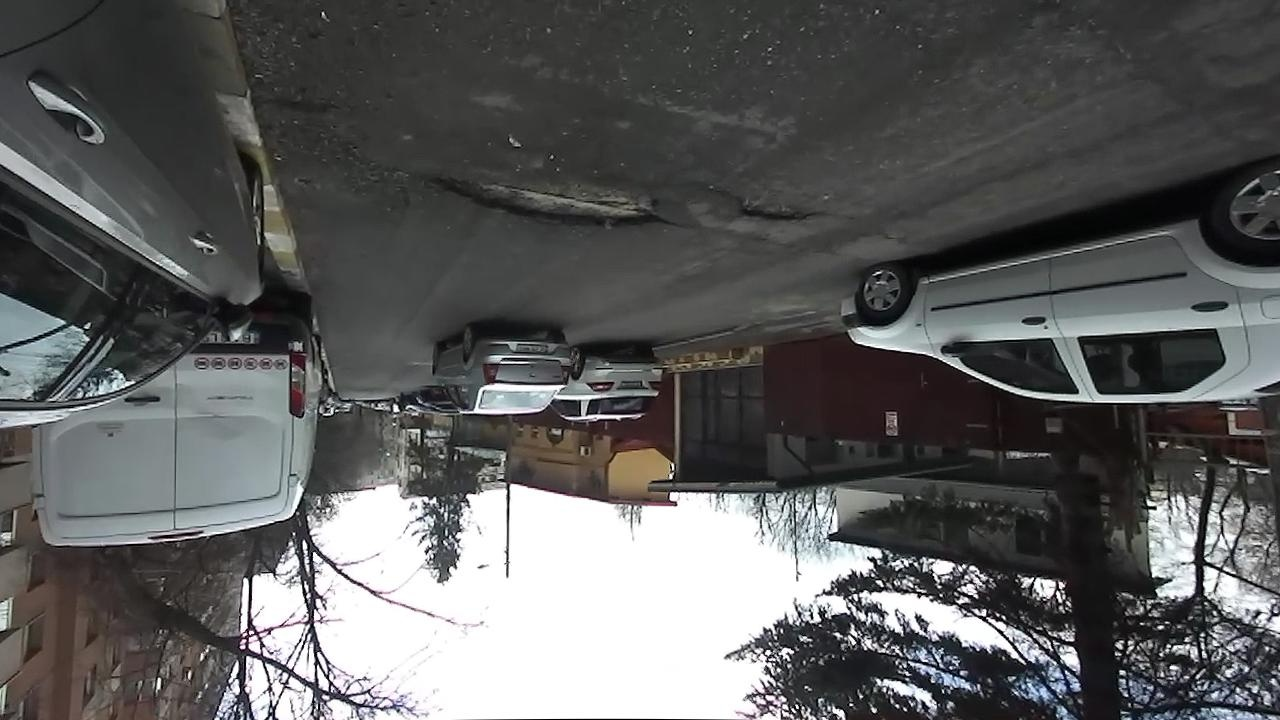pothole: (415, 162, 675, 235), (721, 189, 825, 226)
